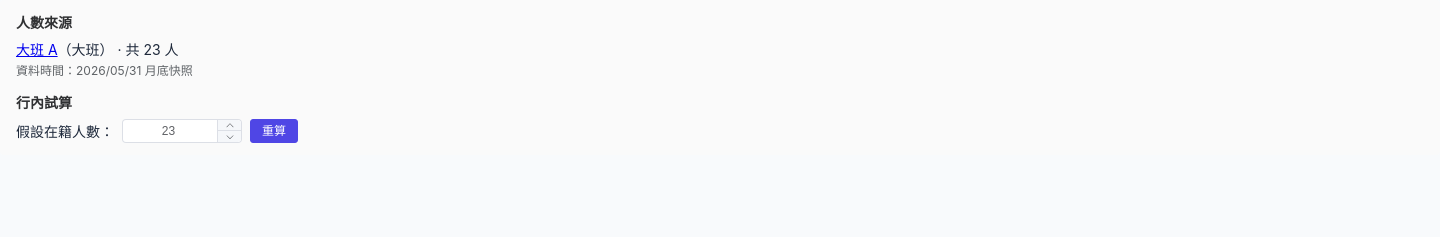
SalaryBreakdown › reset button clears preview (.bd-preview 消失並還原假設在籍人數)
What coordinates should you click on to do the following:
click the button "重算"
I would click on:
 (274, 131)
Its box is 250,119 -> 298,143.
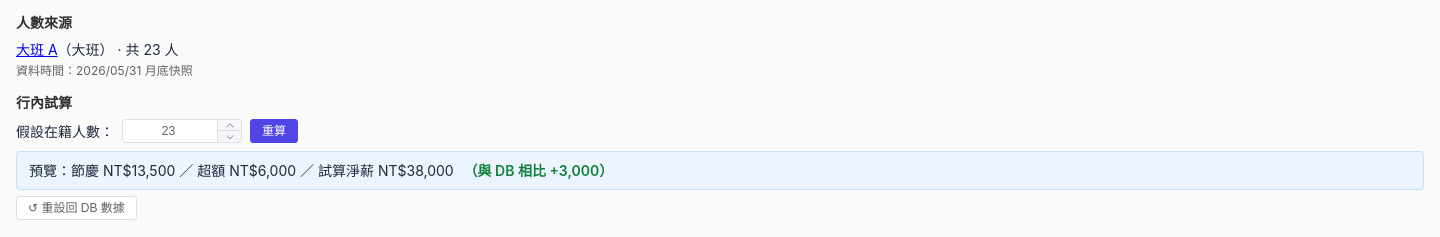
Check: the element with class "bd-preview" is shown, box 16,151 -> 1424,190
What coordinates should you click on to do the following:
click the button "↺ 重設回 DB 數據"
I would click on:
 (76, 208)
Its box is 16,196 -> 137,220.
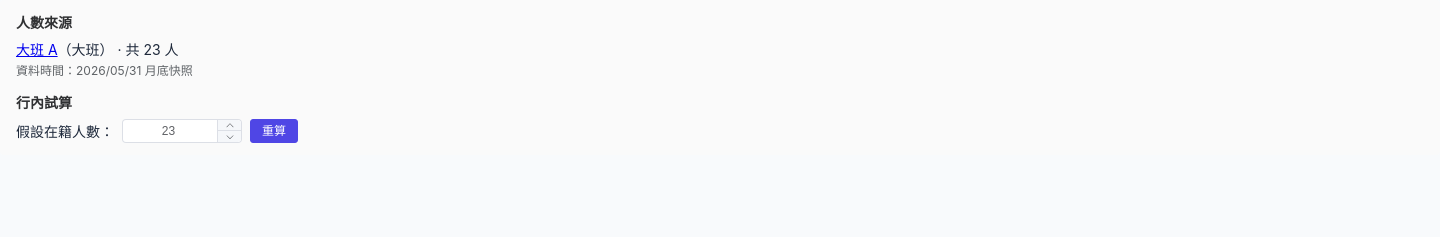
Check: the text "預覽：" is gone
